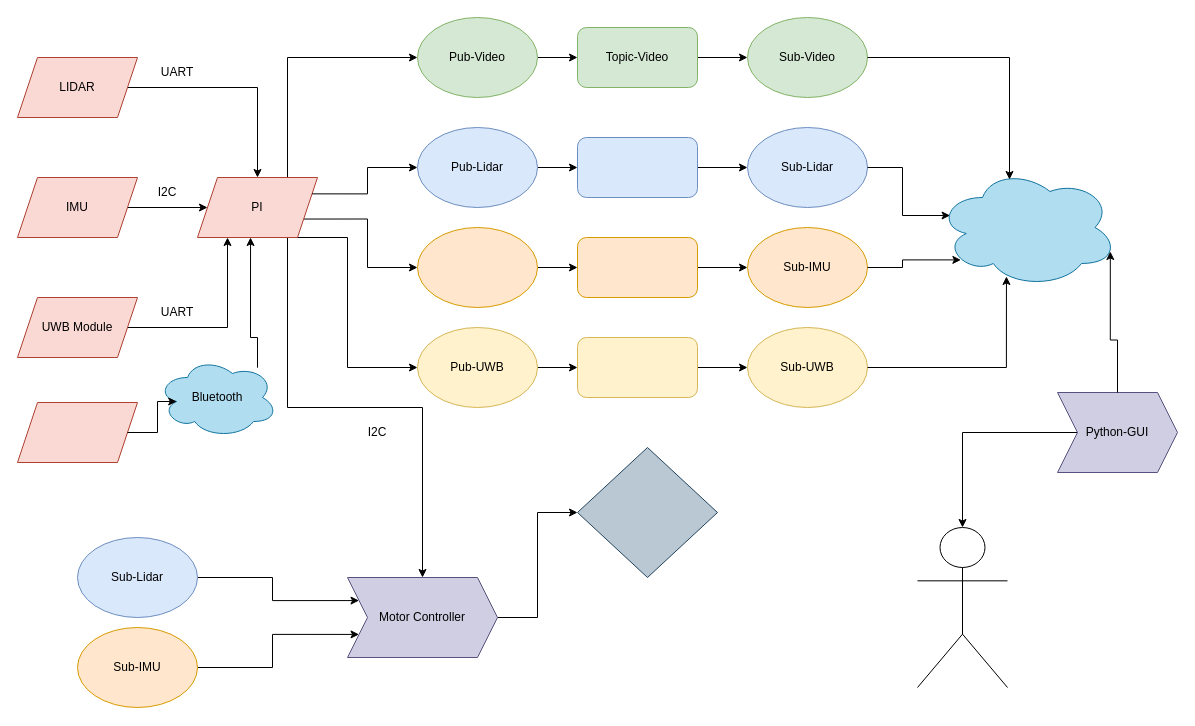
This 1195x726 diagram has some shape labels left out. The centre of each missing label's shape, as x and y in pixels:
"Legs" belongs at point 647,512.
"Pub-IMU" belongs at point 477,267.
"Remote" belongs at point 77,432.
"Topic-IMU" belongs at point 637,267.
"Topic-Lidar" belongs at point 637,167.
"Topic-UWB" belongs at point 637,367.
"User" belongs at point 962,607.
"WiFi (ROS Server)" belongs at point 1027,227.
